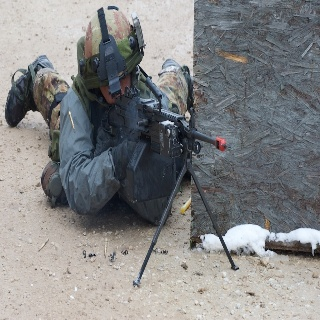rifle: (88, 85, 227, 160)
